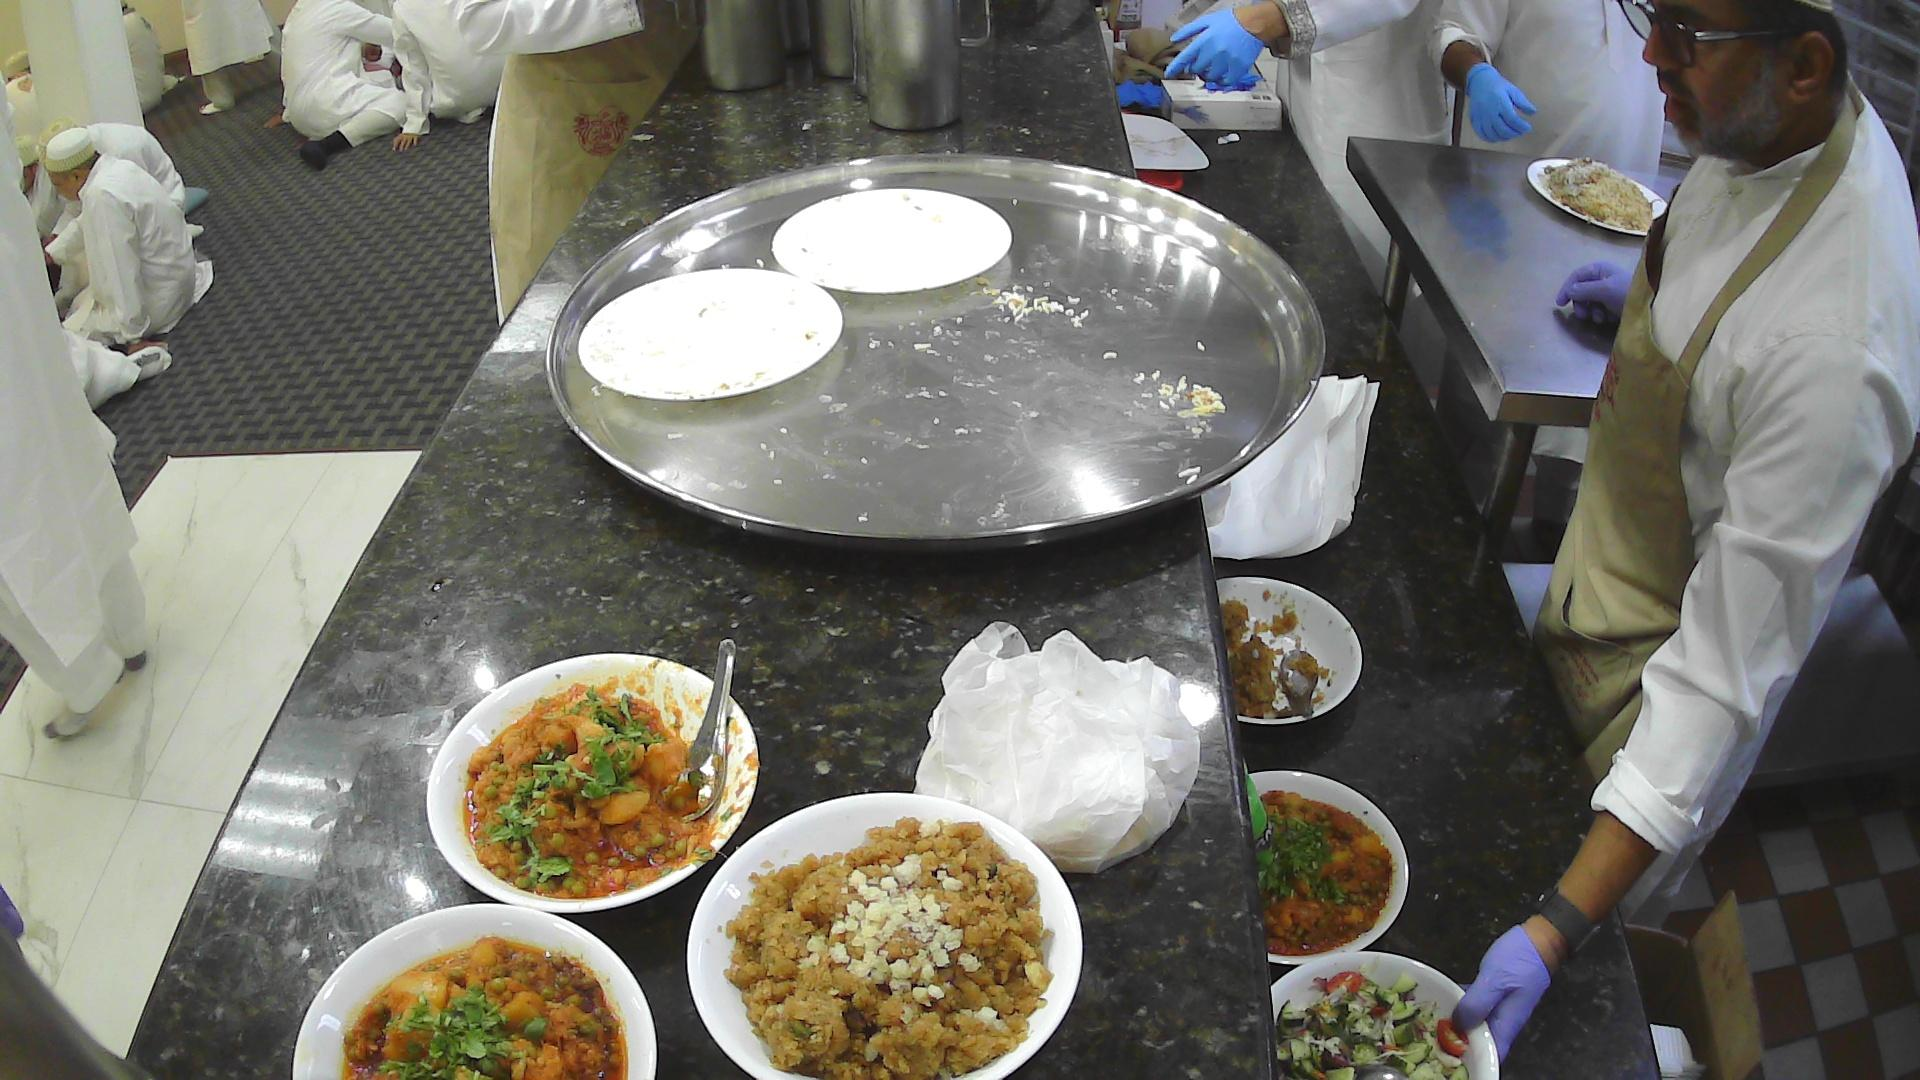thaal: (546, 152, 1329, 559)
